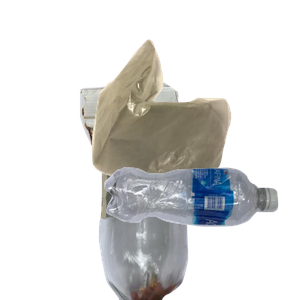cardboard: (77, 79, 251, 227)
glass: (96, 120, 283, 300)
plastic: (102, 165, 300, 300)
trash: (89, 37, 300, 213)
